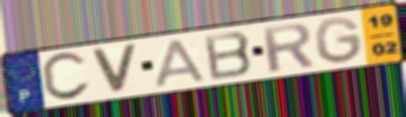A: (152, 37, 208, 89)
B: (201, 30, 255, 83)
C: (39, 50, 93, 104)
G: (312, 16, 365, 66)
R: (258, 21, 317, 75)
V: (88, 42, 140, 94)
